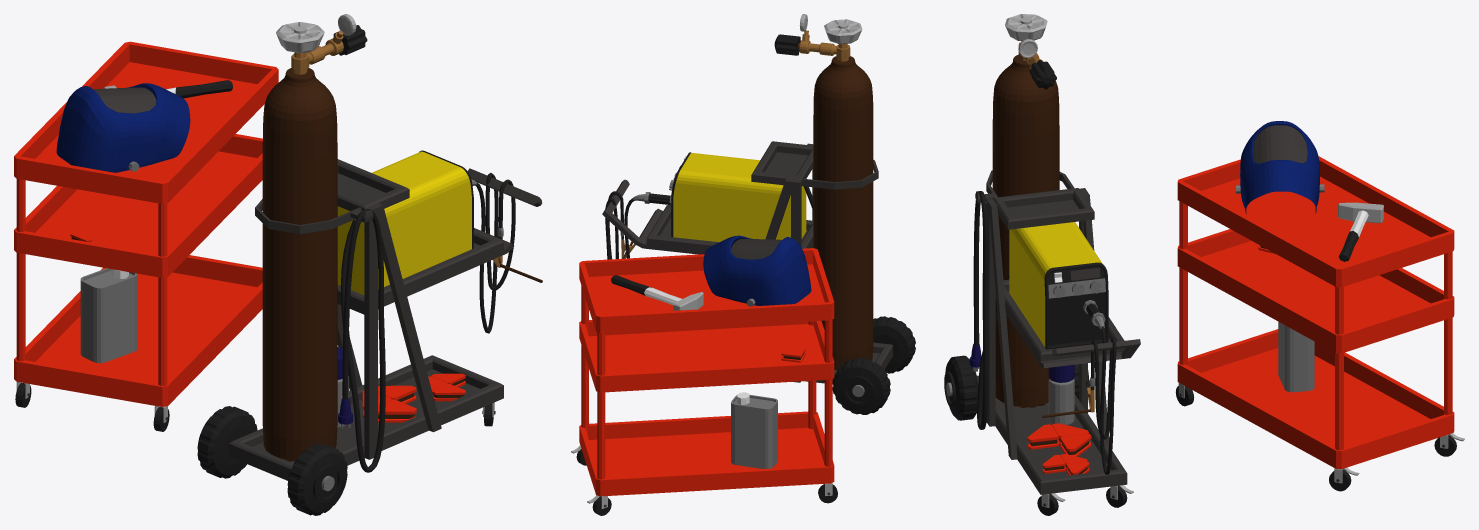
File: welding machine.fbx
3 views of the same model, side by side, from view 1: azimuth 30°, elevation 25°; view 2: azimuth 150°, elevation 25°; view 3: azimuth 270°, elevation 25° (orthographic). The views are drawn at different scales.
Parts seen in each view (by area): view 1: Cylinder.080, Cube.250, Cube.252, Cube.251, Cube.105, Cube.221, Plane.066, Cylinder.086, Cube.285, BezierCurve, Plane.067, Plane.069 (+8 smaller); view 2: Cylinder.080, Cube.250, Cube.251, Cube.252, Cube.105, Cube.221, Cylinder.086, Cube.285, Plane.067, Plane.068, Cylinder.218, Cylinder.217 (+10 smaller); view 3: Cube.250, Cube.252, Cube.251, Cylinder.080, Cube.105, Plane.066, Cube.106, Cube.221, Plane.068, Plane.069, Plane.067, Cylinder.218 (+10 smaller).
Boxes of the visible parts, x1=… form: Cylinder.080: x1=262, y1=68, x2=337, y2=461; Cube.250: x1=14, y1=255, x2=262, y2=406; Cube.252: x1=14, y1=41, x2=278, y2=203; Cube.251: x1=14, y1=134, x2=262, y2=277; Cube.105: x1=337, y1=151, x2=471, y2=295; Cube.221: x1=56, y1=83, x2=190, y2=172; Plane.066: x1=228, y1=355, x2=503, y2=480; Cylinder.086: x1=197, y1=406, x2=347, y2=515; Cube.285: x1=80, y1=268, x2=136, y2=363; BezierCurve: x1=340, y1=209, x2=385, y2=472; Plane.067: x1=337, y1=168, x2=542, y2=314; Plane.069: x1=337, y1=203, x2=441, y2=432; Cylinder.080: x1=813, y1=56, x2=873, y2=370; Cube.250: x1=579, y1=411, x2=834, y2=496; Cube.251: x1=579, y1=320, x2=834, y2=392; Cube.252: x1=579, y1=248, x2=834, y2=333; Cube.105: x1=673, y1=153, x2=806, y2=242; Cube.221: x1=703, y1=235, x2=811, y2=305; Cylinder.086: x1=832, y1=316, x2=915, y2=414; Cube.285: x1=731, y1=395, x2=777, y2=468; Plane.067: x1=602, y1=179, x2=813, y2=254; Plane.068: x1=751, y1=141, x2=813, y2=185; Cylinder.218: x1=581, y1=286, x2=605, y2=479; Cylinder.217: x1=808, y1=320, x2=832, y2=466; Cube.250: x1=1177, y1=329, x2=1454, y2=469; Cube.252: x1=1177, y1=156, x2=1454, y2=287; Cube.251: x1=1177, y1=229, x2=1454, y2=353; Cylinder.080: x1=992, y1=54, x2=1059, y2=407; Cube.105: x1=1009, y1=222, x2=1102, y2=346; Plane.066: x1=977, y1=375, x2=1127, y2=494; Cube.106: x1=1044, y1=262, x2=1108, y2=349; Cube.221: x1=1240, y1=121, x2=1319, y2=213; Plane.068: x1=993, y1=188, x2=1094, y2=229; Plane.069: x1=988, y1=192, x2=1109, y2=459; Plane.067: x1=995, y1=279, x2=1140, y2=368; Cylinder.218: x1=1335, y1=251, x2=1452, y2=450.
Size of the model in its own units: 158 by 173 by 200.
